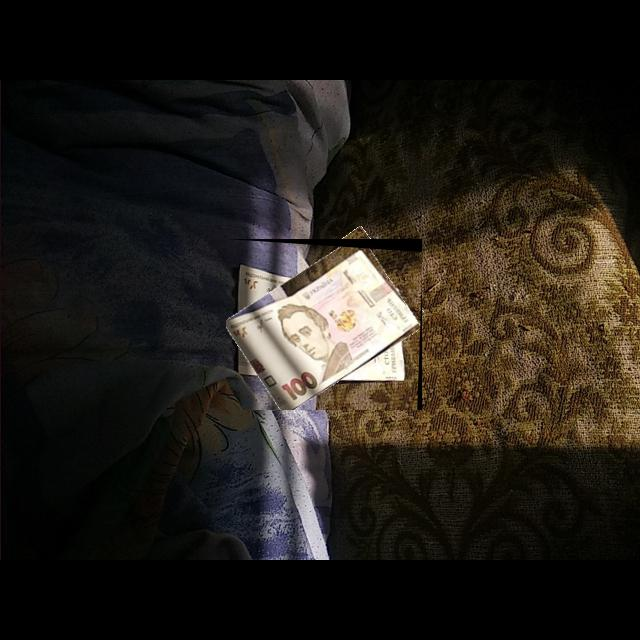100uah: (226, 246, 421, 411)
